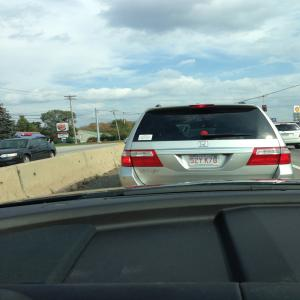Vehicle-registration-plate: (186, 155, 220, 167)
